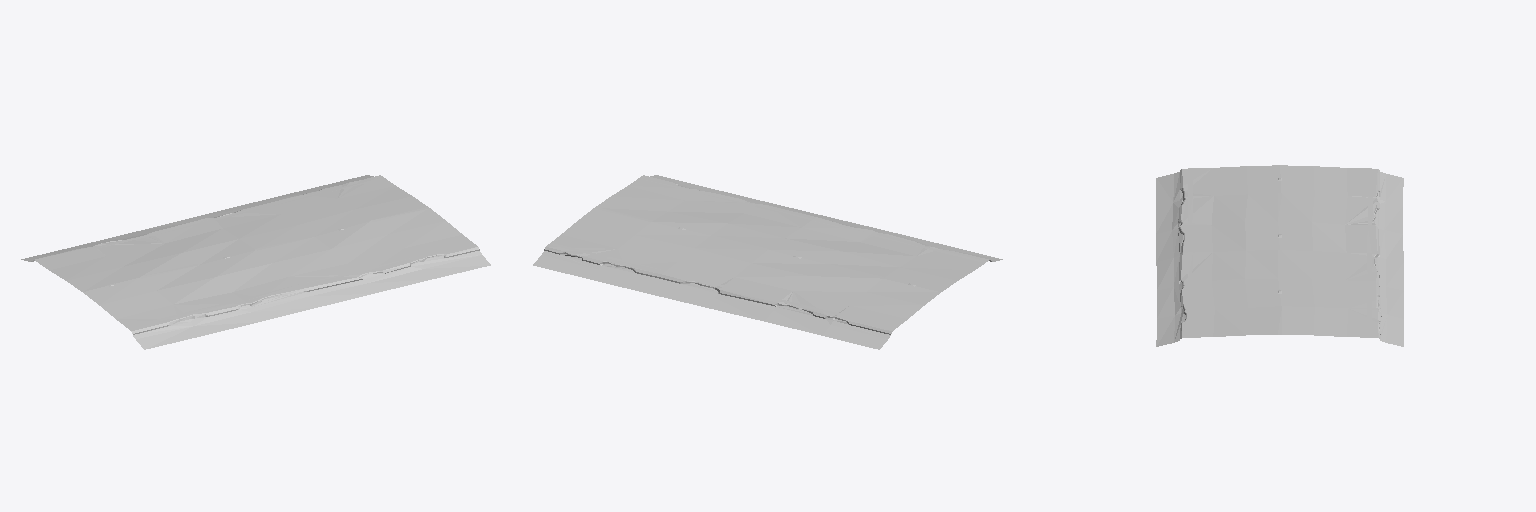
File: RoadStraight.obj
The picture shows the model from 3 angles: view 1: azimuth 30°, elevation 25°; view 2: azimuth 150°, elevation 25°; view 3: azimuth 270°, elevation 25°; orthographic projection.
Visible parts, largest first — view 1: __PrenotatoPerDuplicare_0; view 2: __PrenotatoPerDuplicare_0; view 3: __PrenotatoPerDuplicare_0.
Part boxes in pixels (x1,y1,x2,y2): __PrenotatoPerDuplicare_0: (21,175,490,349); __PrenotatoPerDuplicare_0: (533,175,1002,349); __PrenotatoPerDuplicare_0: (1156,165,1403,346).
Bounding box in the file's own units: 1024 × 36.35 × 634.